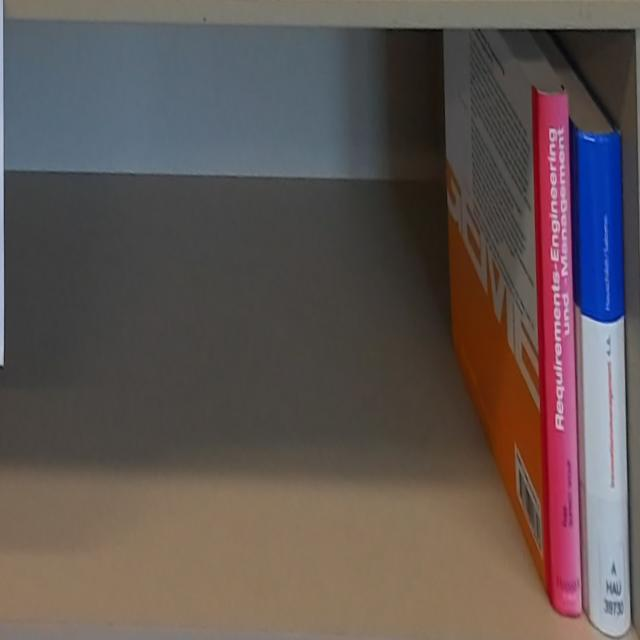Book Spine: (578, 130, 631, 635), (536, 89, 583, 615)
